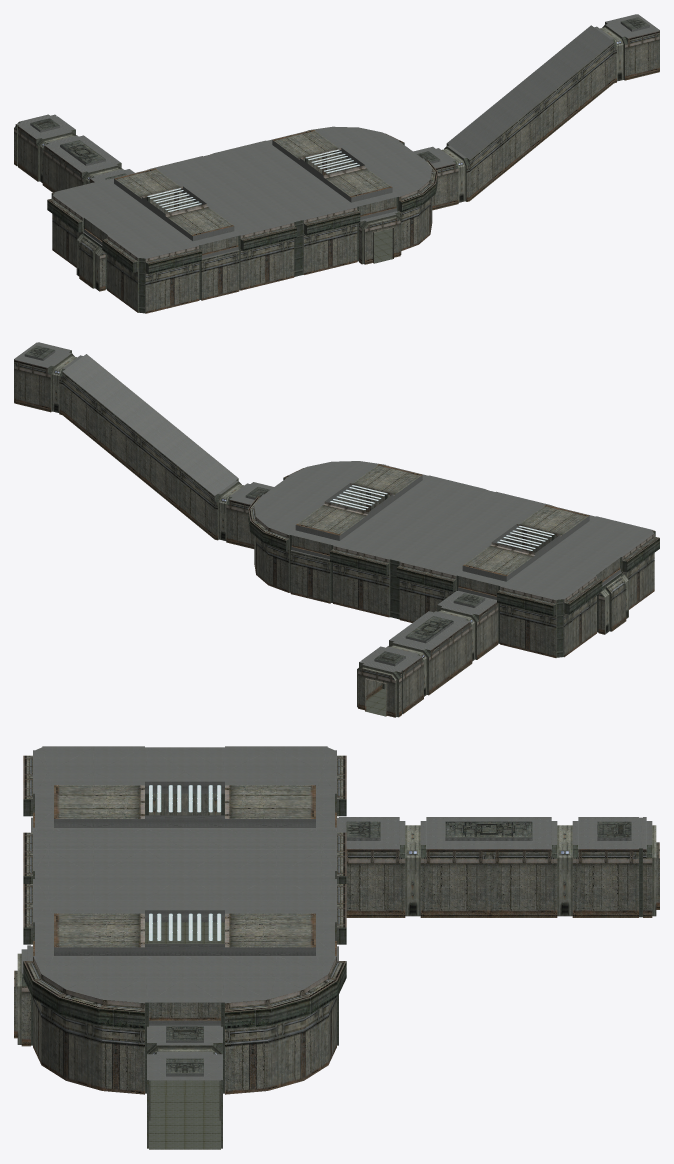
File: poi_all_impl_bunker_crimelord_retreat_s01_r10_rightguardroom_mesh_r10.fbx
3 views of the same model, one above another, from view 1: azimuth 30°, elevation 25°; view 2: azimuth 150°, elevation 25°; view 3: azimuth 270°, elevation 25° (orthographic). The views are drawn at different scales.
Parts seen in each view (by area): view 1: mesh_node; view 2: mesh_node; view 3: mesh_node.
Part boxes in pixels (x1,y1,x2,y2): mesh_node: [14, 14, 659, 313]; mesh_node: [14, 342, 659, 717]; mesh_node: [14, 746, 659, 1149].
Bounding box in the file's own units: 56.9 × 12.2 × 34.
